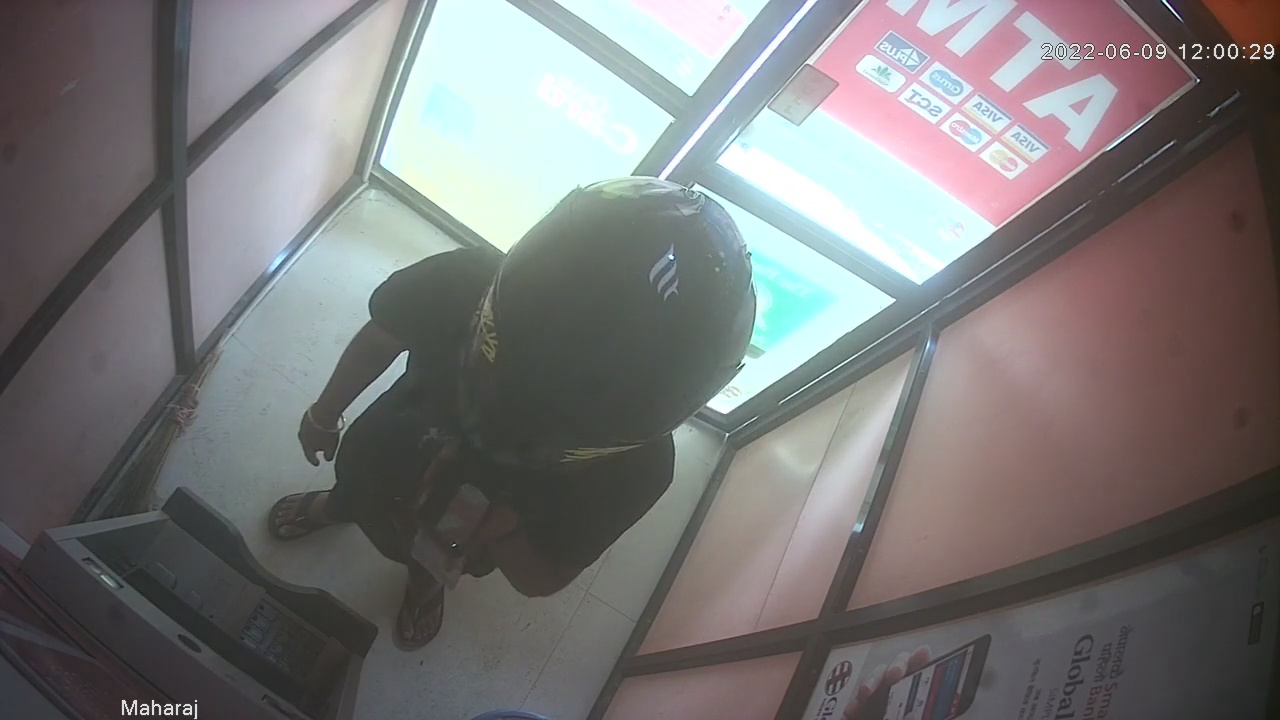helmet: (457, 174, 757, 472)
person: (266, 174, 758, 654)
